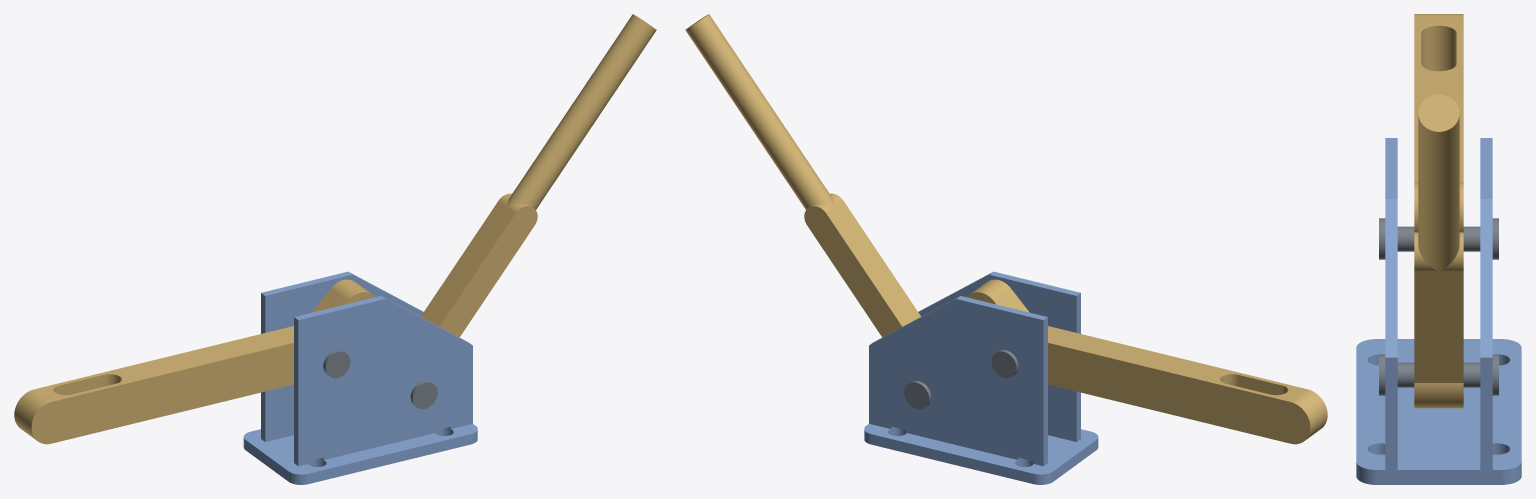
The model's file is step_20.glb.
The picture shows the model from 3 angles, left to right: view 1: azimuth 30°, elevation 25°; view 2: azimuth 150°, elevation 25°; view 3: azimuth 270°, elevation 25°; orthographic projection. The views are drawn at different scales.
Parts seen in each view (by area): view 1: part__base, part__clamp arm, part__handle; view 2: part__base, part__clamp arm, part__handle; view 3: part__base, part__handle, part__clamp arm, part__pivot pin A, part__pivot pin B.
Boxes of the visible parts, bbox=[...] form: part__base: bbox=[243, 271, 477, 484]; part__clamp arm: bbox=[14, 279, 374, 444]; part__handle: bbox=[420, 14, 656, 337]; part__base: bbox=[864, 271, 1098, 484]; part__clamp arm: bbox=[967, 279, 1327, 444]; part__handle: bbox=[685, 14, 921, 337]; part__base: bbox=[1356, 138, 1521, 484]; part__handle: bbox=[1414, 94, 1463, 408]; part__clamp arm: bbox=[1414, 14, 1463, 232]; part__pivot pin A: bbox=[1379, 218, 1498, 259]; part__pivot pin B: bbox=[1379, 354, 1498, 395].
Bounding box in the file's own units: 253 × 138 × 40.
